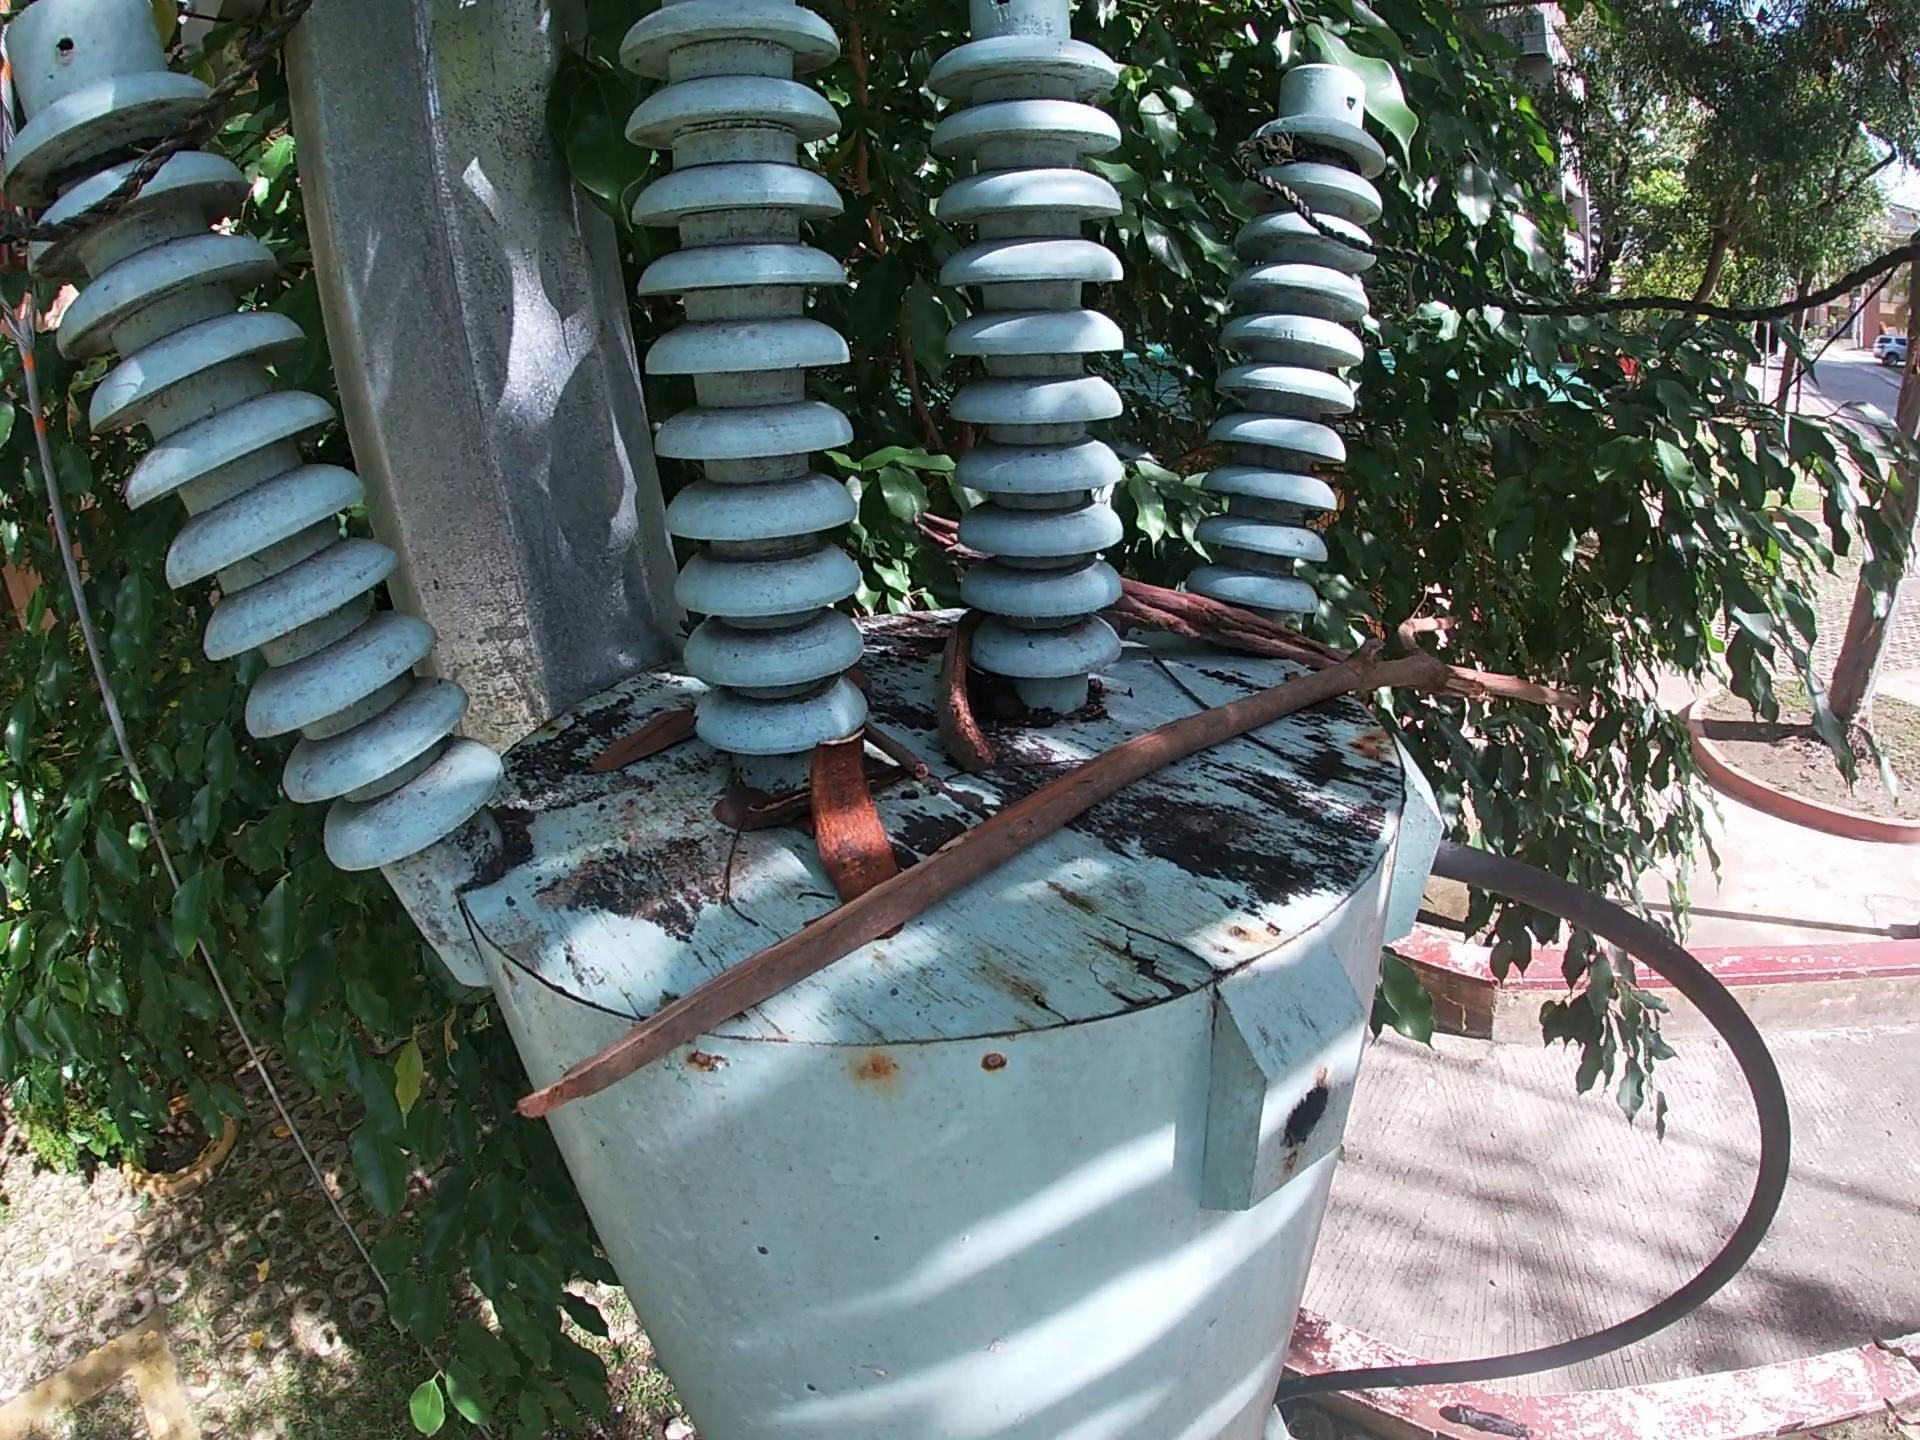leaf: (581, 703, 715, 779)
mahogany fruit: (803, 728, 903, 905), (931, 605, 992, 779)
tree branch: (516, 596, 1603, 1128), (1104, 563, 1352, 661), (862, 718, 931, 782)
